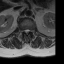CCS_normal: (26, 27, 28, 36)
LFS_normal: (30, 28, 32, 33)
LLS_normal: (28, 27, 29, 33)
RFS_stenosis: (22, 27, 24, 33)
RLS_normal: (24, 27, 26, 34)
